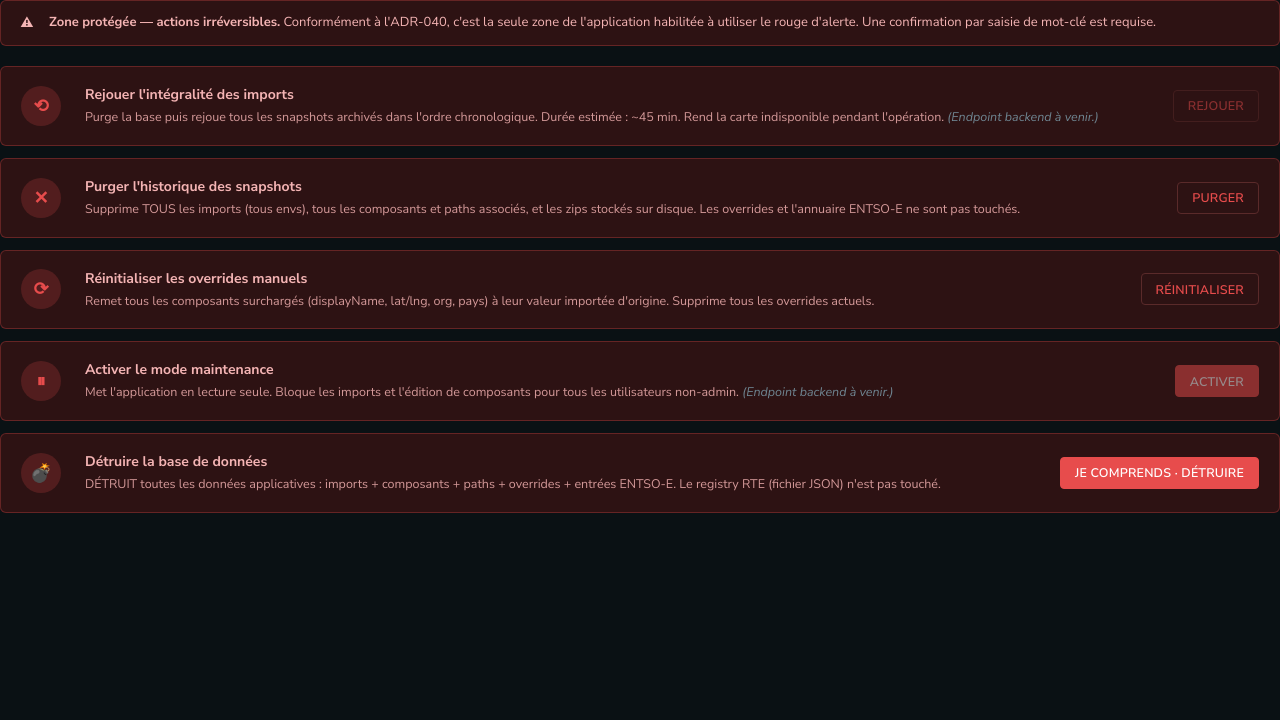
Test: DangerZoneTab (5 actions design carto-rte v2) › opens confirm modal and requires typing PURGER for purge imports
Click the button with aria-label "Purger l'historique des snapshots": point(1218, 198) [1177, 182, 1259, 214]
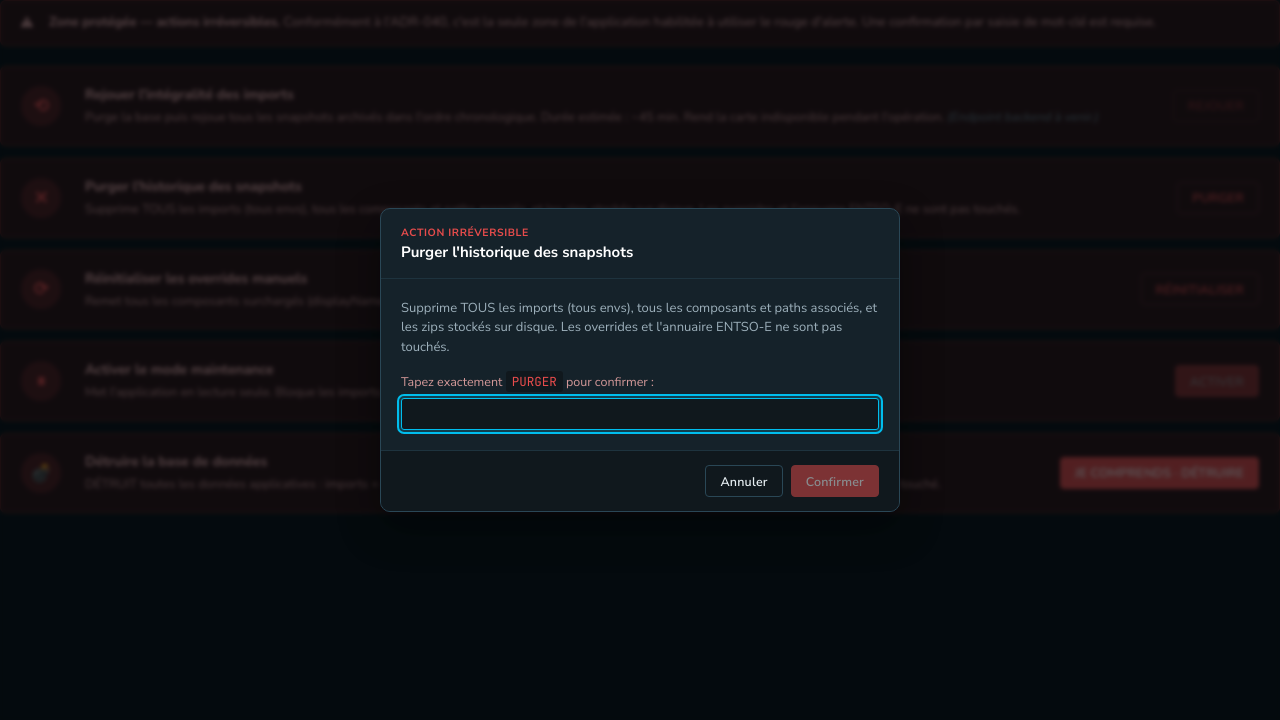
Result: the button "Confirmer" is disabled at [791, 465, 879, 497]
In the field named "Confirmation": point(640, 414) [401, 398, 879, 430], type "WRONG"
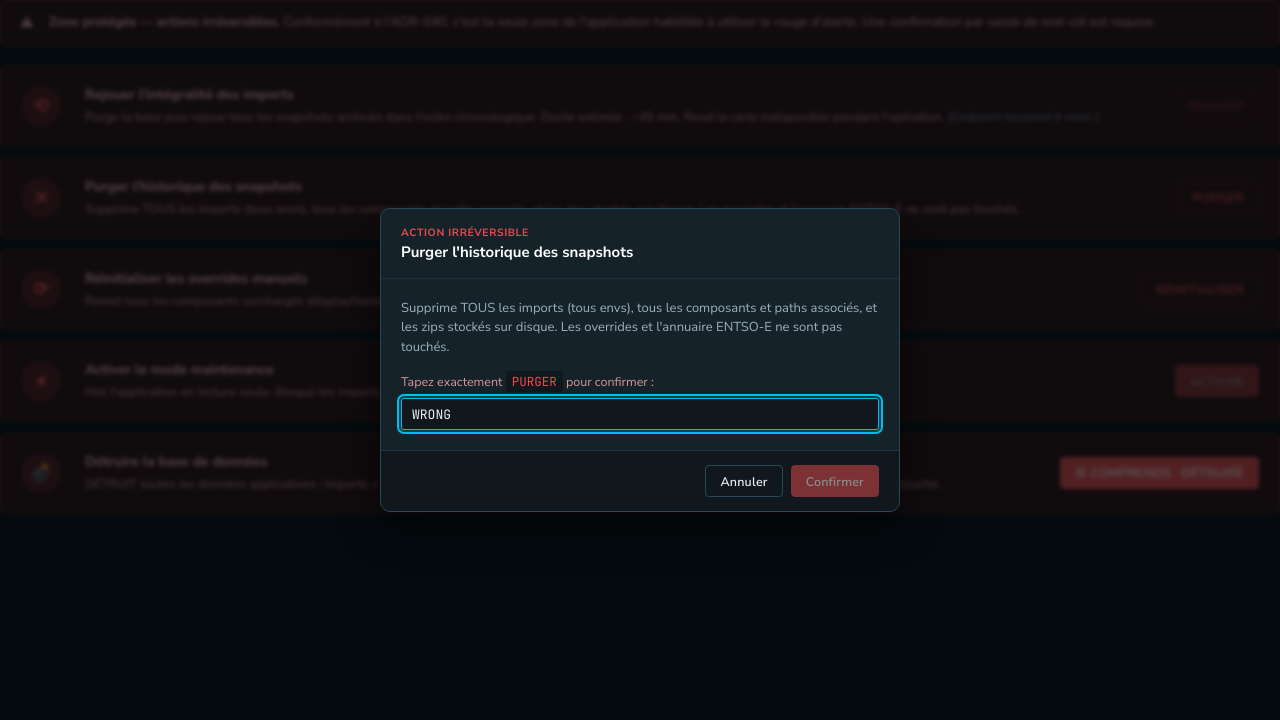
Result: the button "Confirmer" is disabled at [791, 465, 879, 497]
Replace the text in the field named "Confirmation" with "PURGER": point(640, 414) [401, 398, 879, 430]
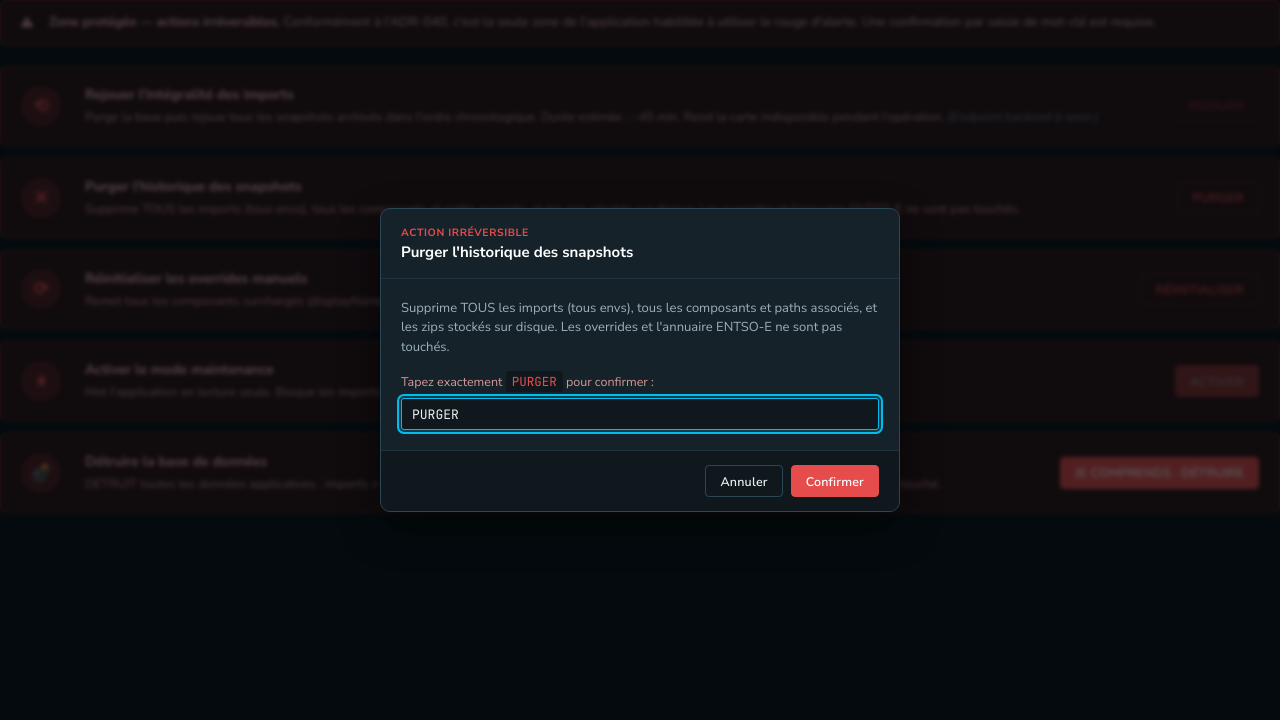
Result: the button "Confirmer" is enabled at [791, 465, 879, 497]
